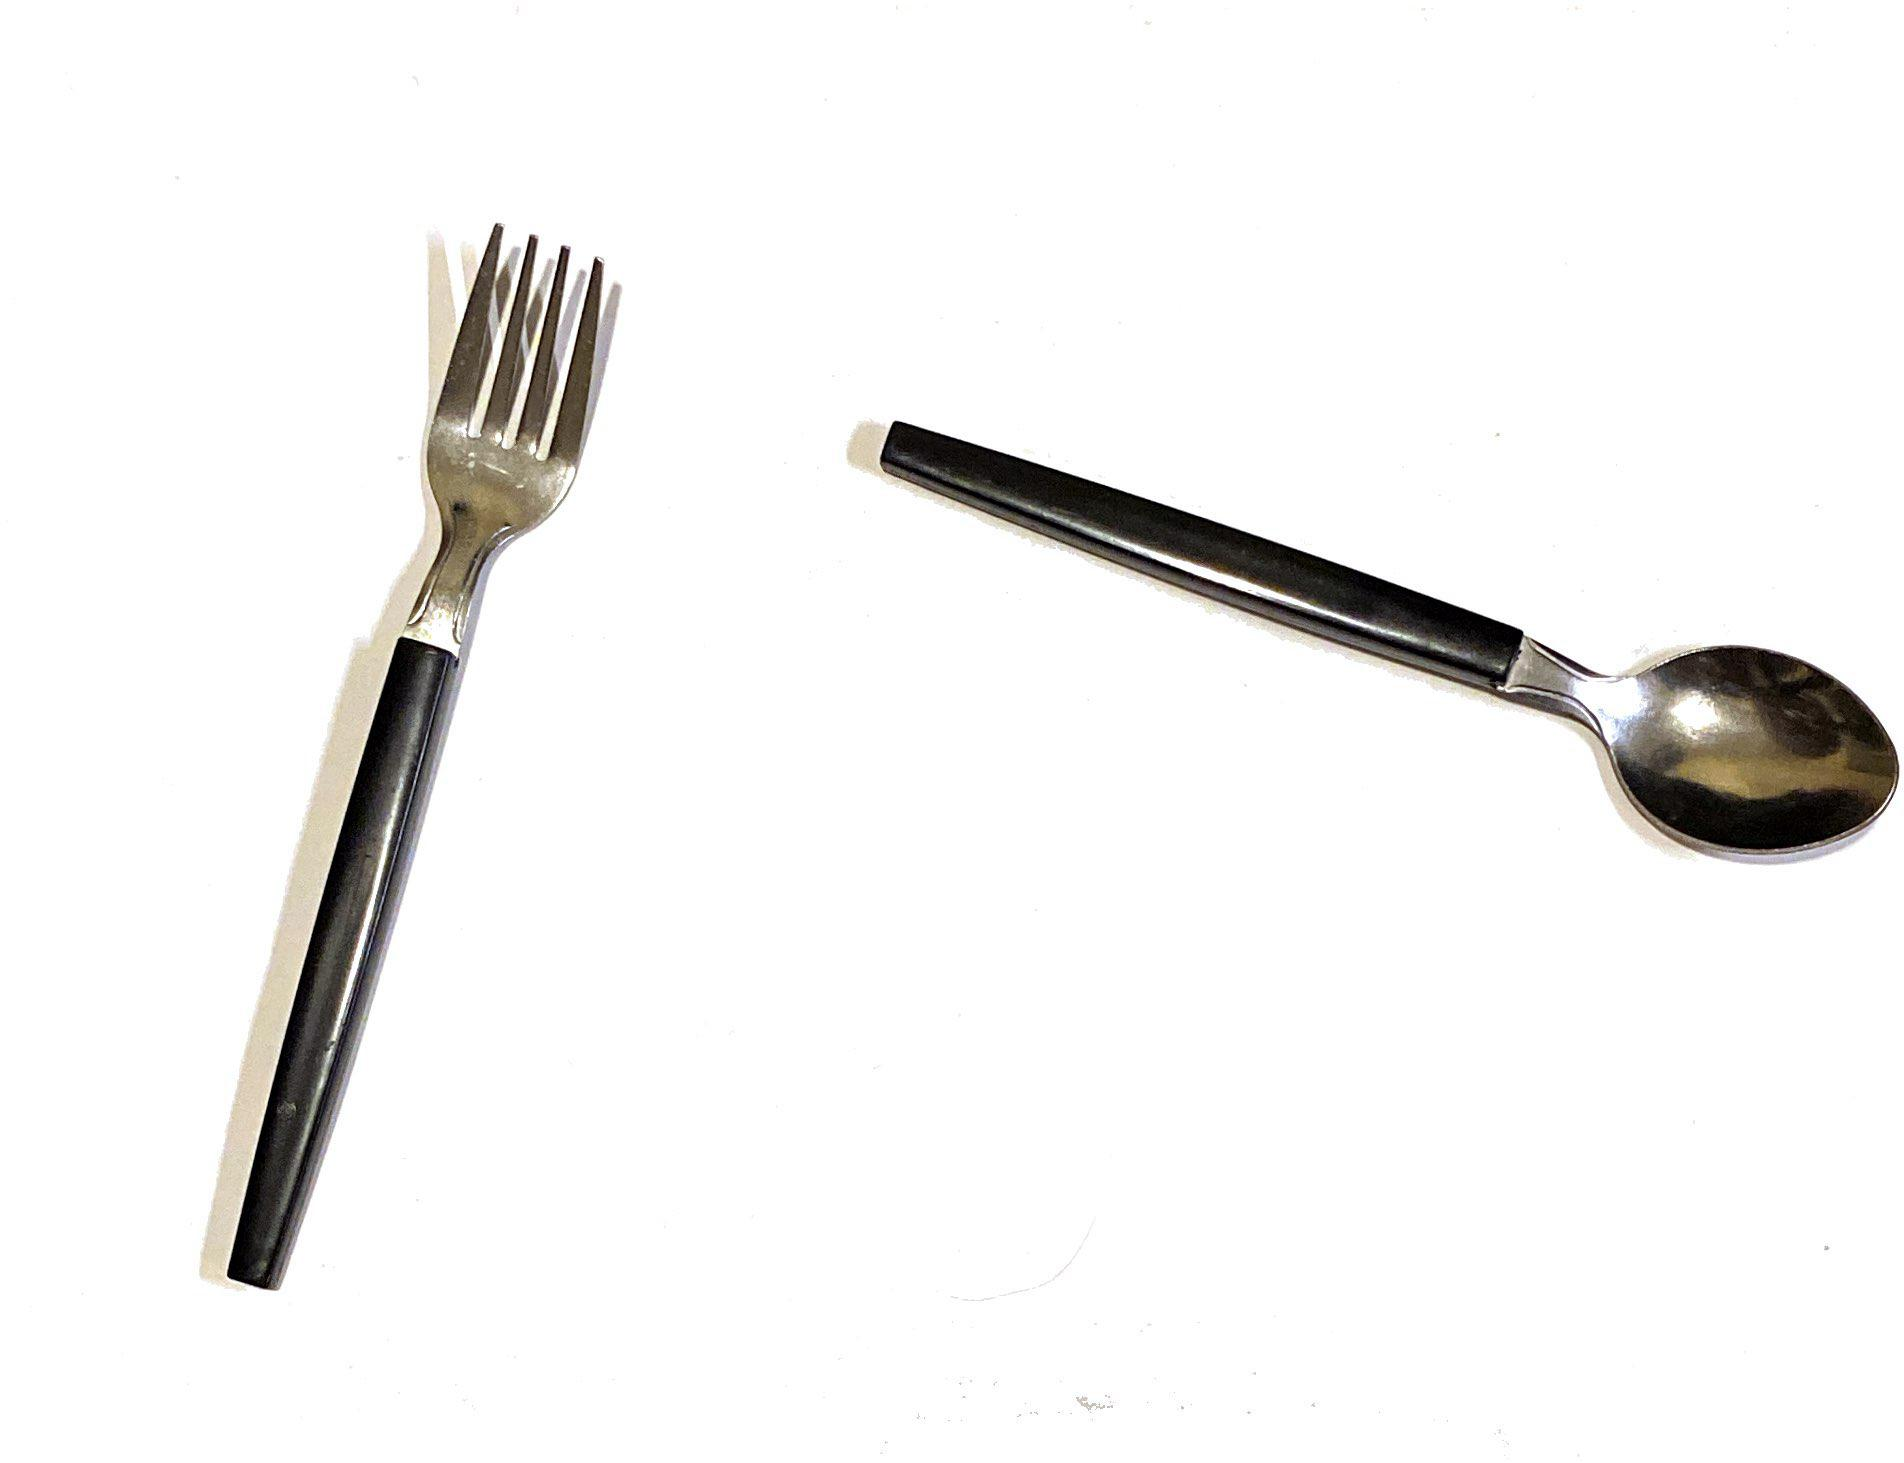Fork: (187, 140, 702, 1306)
Spoon: (868, 373, 1904, 917)
